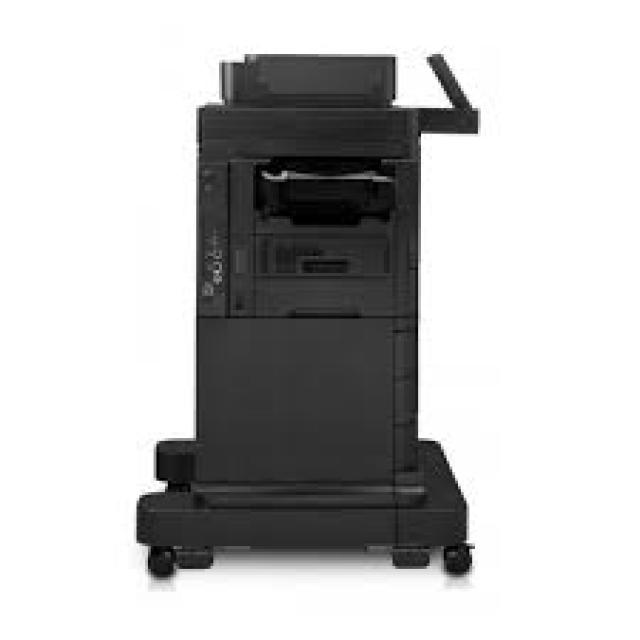printer: (133, 49, 480, 578)
